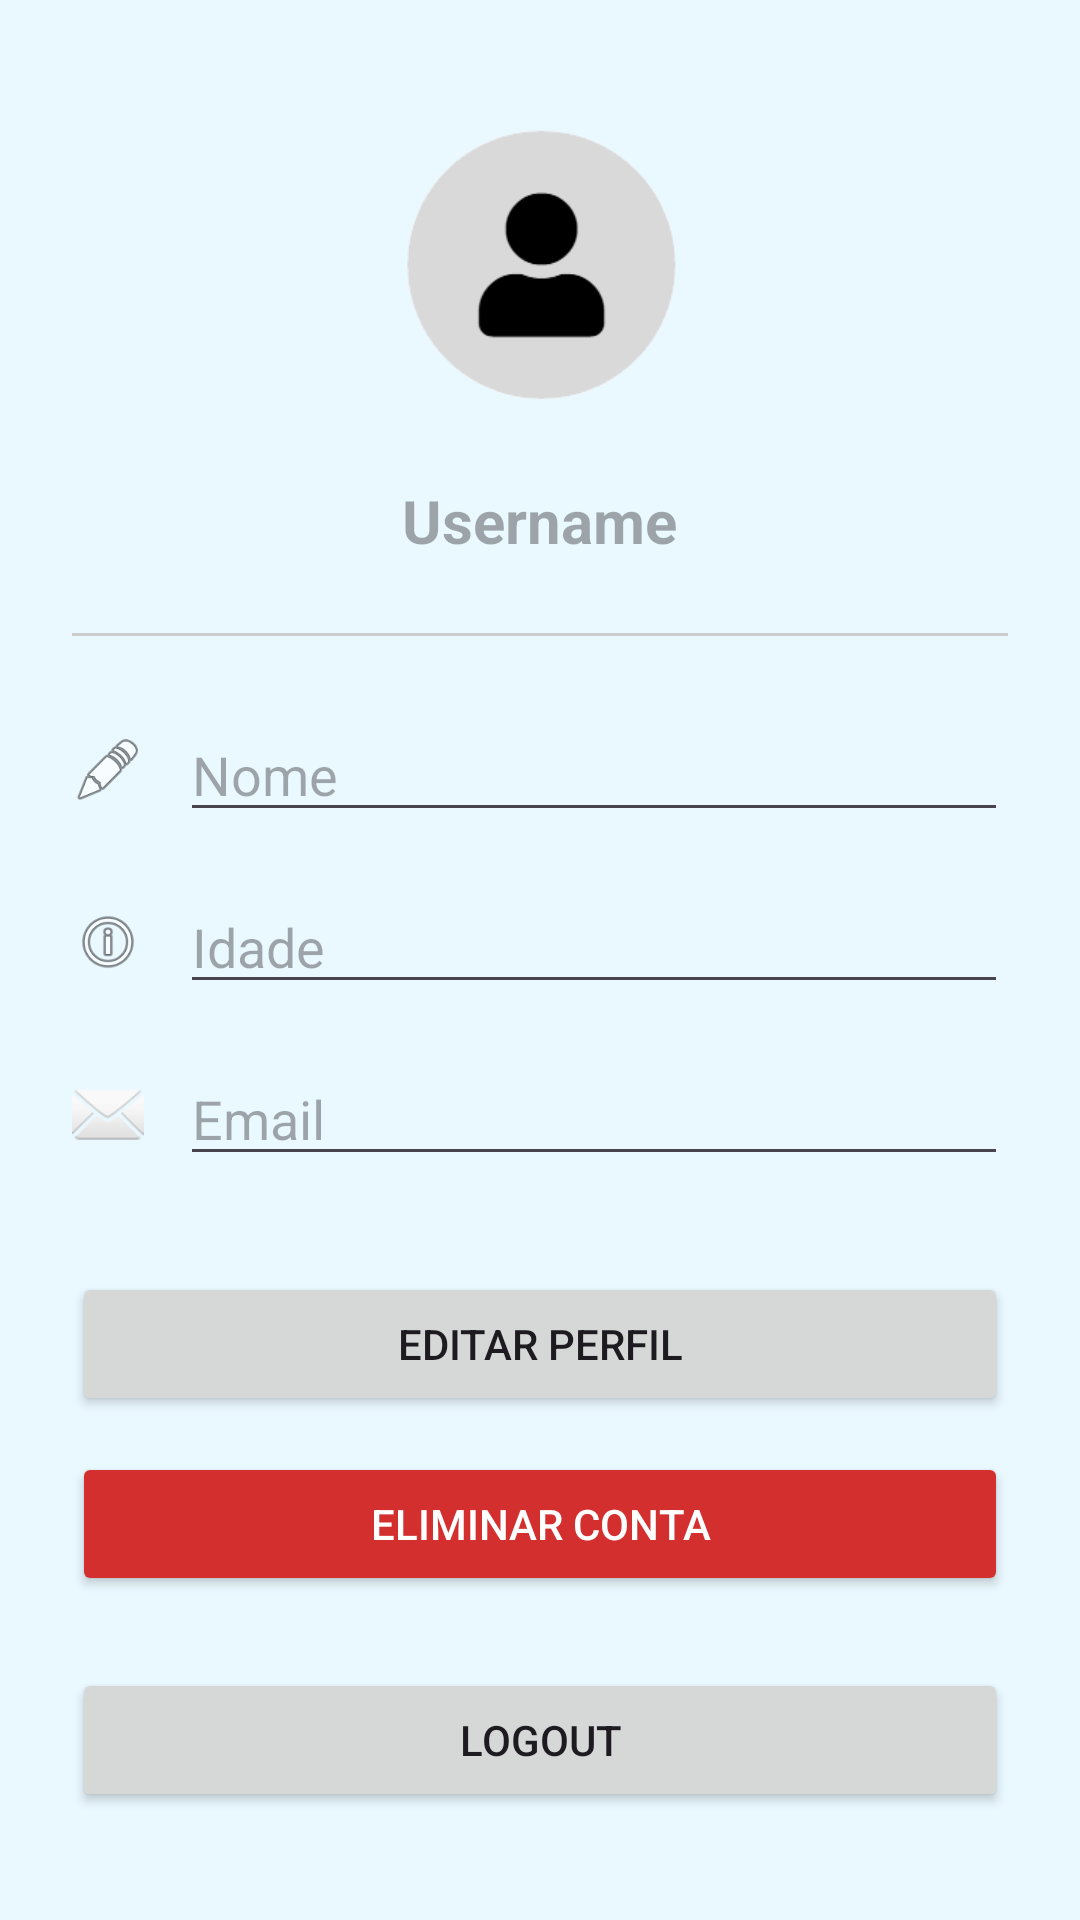

Icon bounding boxes for this 1080px×1920px phone screenshot, format bbox=(x1, y1, x2, y2):
edit: bbox=(77, 739, 138, 800)
Foto de perfil: bbox=(408, 131, 675, 399)
info details: bbox=(82, 916, 134, 968)
